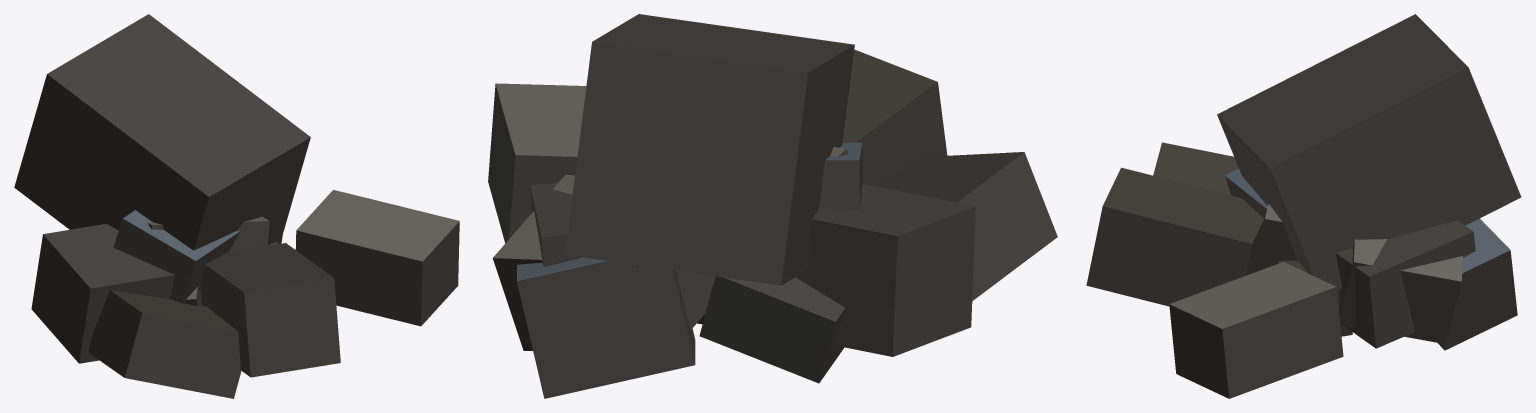
File: rubble.glb
3 views of the same model, side by side, from view 1: azimuth 30°, elevation 25°; view 2: azimuth 150°, elevation 25°; view 3: azimuth 270°, elevation 25° (orthographic). The views are drawn at different scales.
Visible parts, largest first — view 1: Rubble; view 2: Rubble; view 3: Rubble.
Part boxes in pixels (bbox=[...]): Rubble: bbox=[14, 14, 459, 398]; Rubble: bbox=[488, 14, 1057, 398]; Rubble: bbox=[1086, 14, 1521, 398].
Size of the model in its own units: 0.5 by 0.3335 by 0.5013.
1 material, 1 textured.
